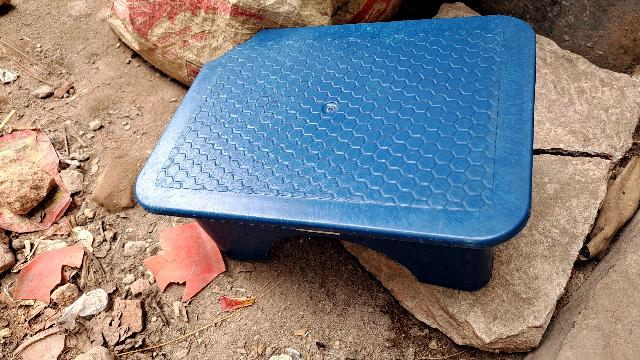hardplastic: (127, 11, 550, 275)
